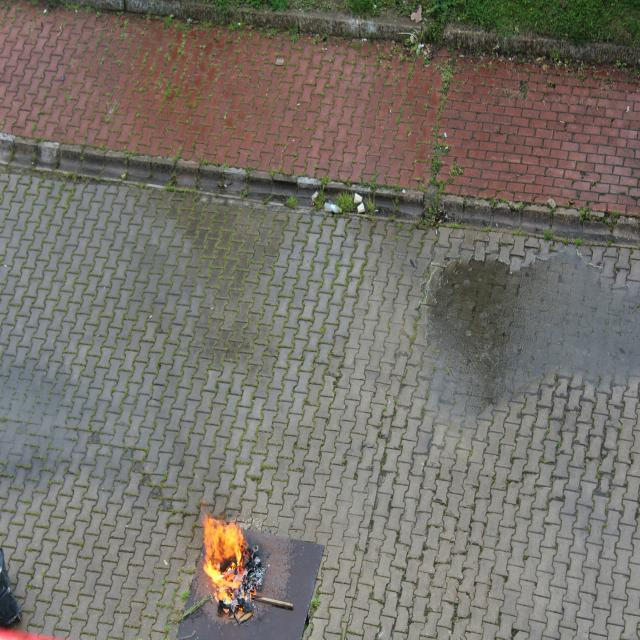fire: (201, 516, 247, 611)
